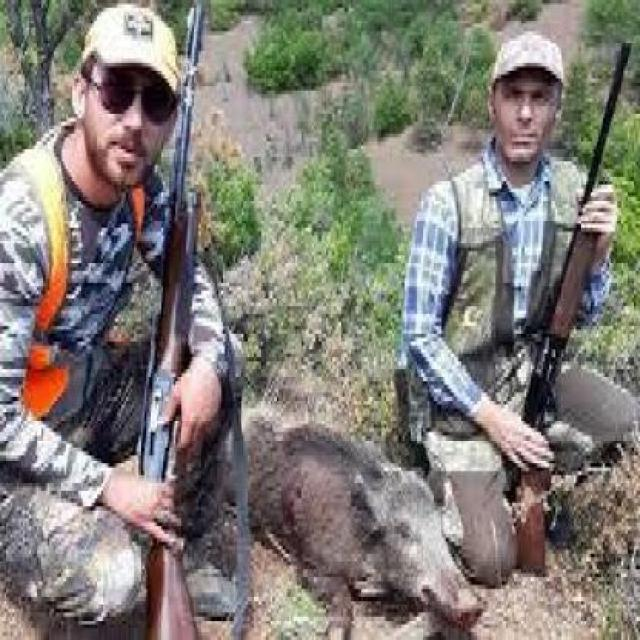wildboar: (242, 407, 486, 640)
